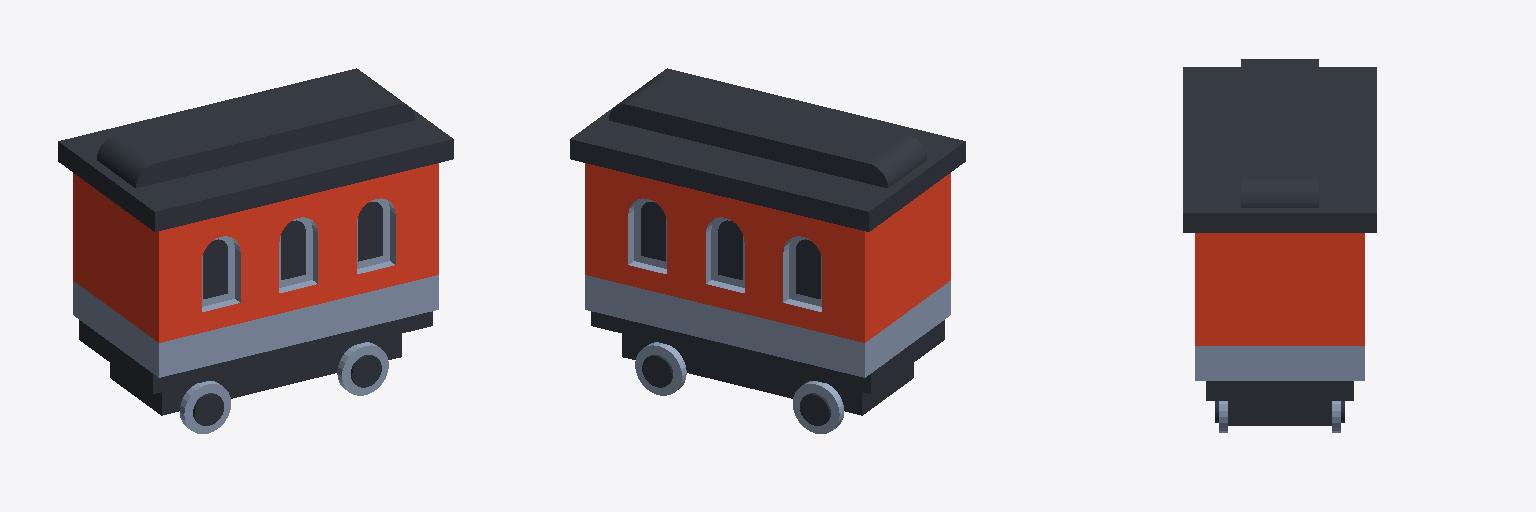
The model's file is trainWagonShort.obj.
3 renders of one model, left to right at view 1: azimuth 30°, elevation 25°; view 2: azimuth 150°, elevation 25°; view 3: azimuth 270°, elevation 25°, orthographic.
Visible parts, largest first — view 1: trainWagonShort; view 2: trainWagonShort; view 3: trainWagonShort.
Part boxes in pixels (x1,y1,x2,y2): trainWagonShort: (58, 68, 453, 433); trainWagonShort: (570, 68, 965, 433); trainWagonShort: (1183, 59, 1376, 432).
Size of the model in its own units: 0.3084 by 0.2684 by 0.1727.